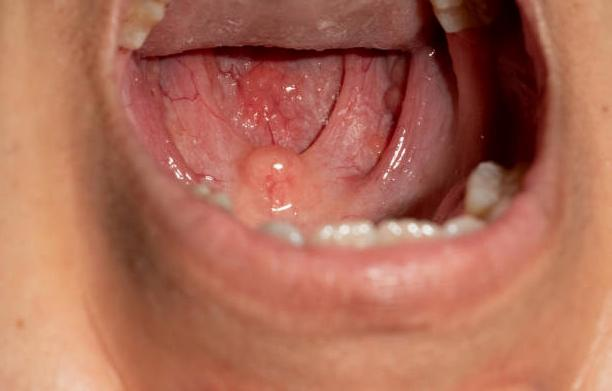Ulcer: (220, 135, 317, 216)
